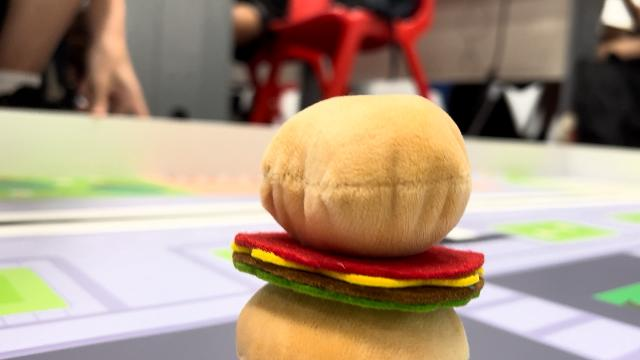burger: (232, 94, 484, 360)
